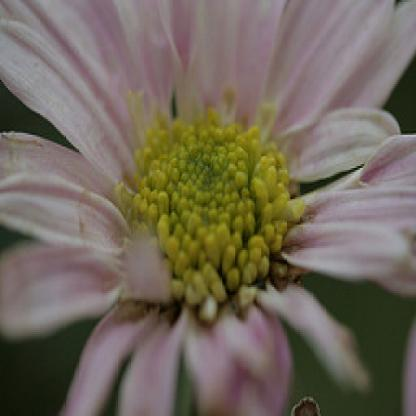ASTER: (2, 3, 416, 409)
